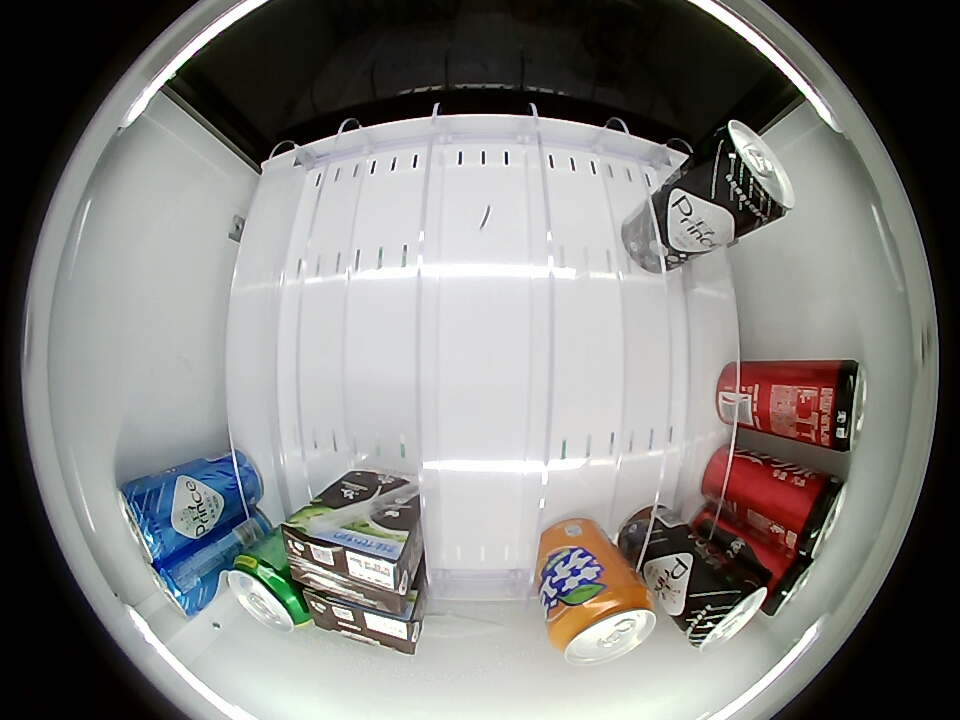fenda: (549, 583, 657, 666)
lingdukele: (776, 470, 848, 561), (806, 360, 866, 453), (764, 553, 817, 617)
qingdaowangzi-1: (712, 118, 795, 226), (680, 561, 771, 651)
qingdaowangzi-2: (116, 474, 182, 564), (144, 553, 218, 617)
weitanai2: (281, 510, 416, 609), (305, 589, 424, 654)
xuebi2: (226, 552, 311, 632)
